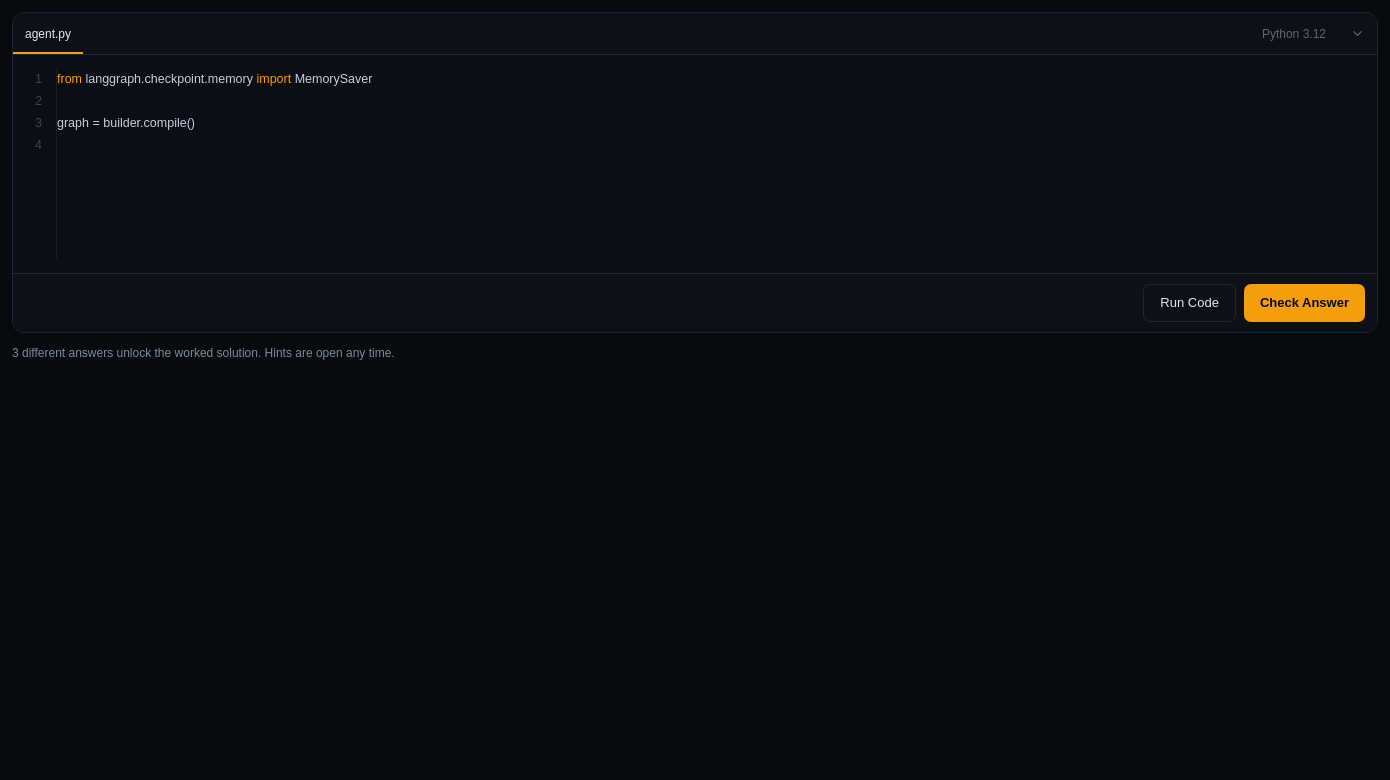
Test: CodeCell › reveals the completed solution and explanation automatically after passing
The width and height of the screenshot is (1390, 780).
Click the button "Check Answer". click: x=1304, y=303
box: top-left (1244, 284), bottom-right (1365, 322)
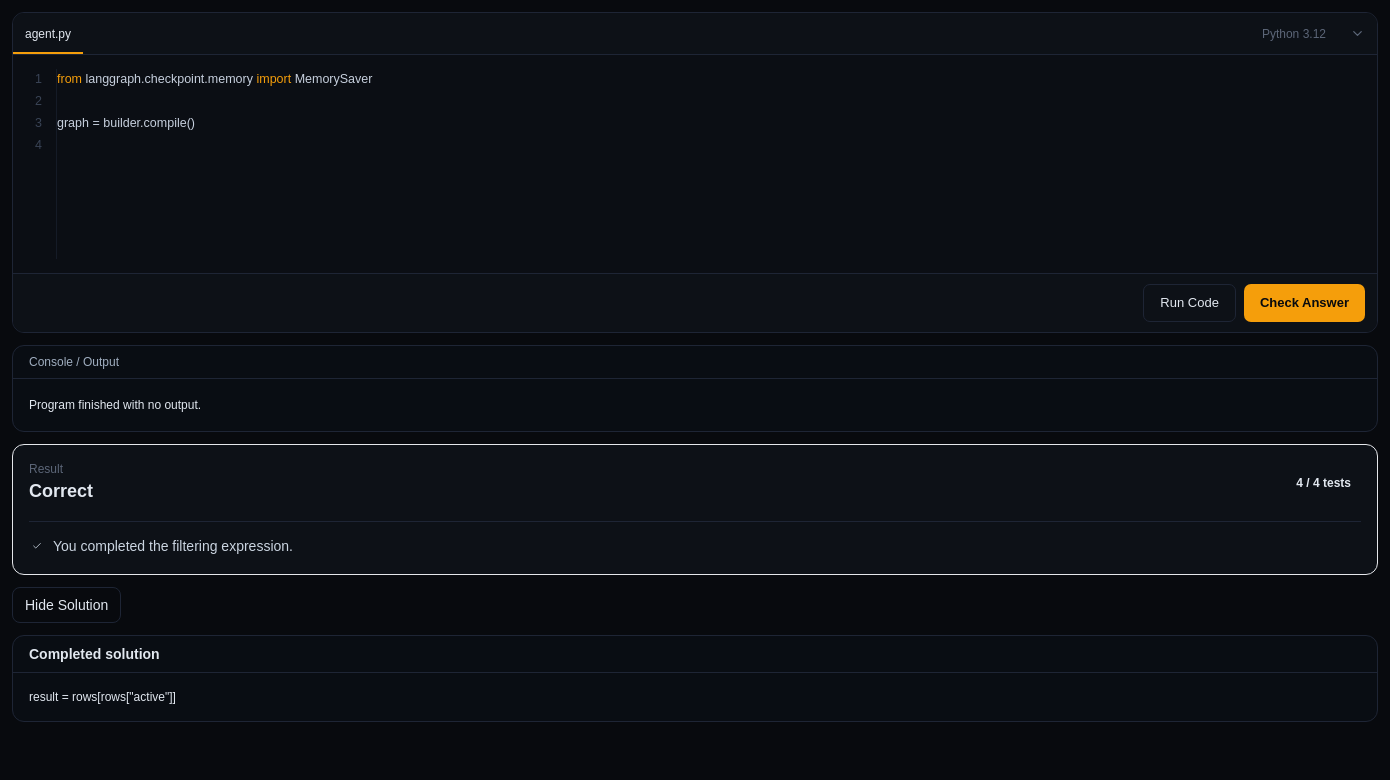
Expected: the text "You completed the filtering expression." is shown, top-left (53, 534), bottom-right (293, 558)
Expected: the heading "Completed solution" is shown, top-left (13, 636), bottom-right (1377, 673)
Expected: the text "result = rows[rows[\"active\"]]" is shown, top-left (29, 690), bottom-right (176, 704)
Click the button "Hide Solution". click: x=67, y=605
box: top-left (12, 587), bottom-right (121, 623)
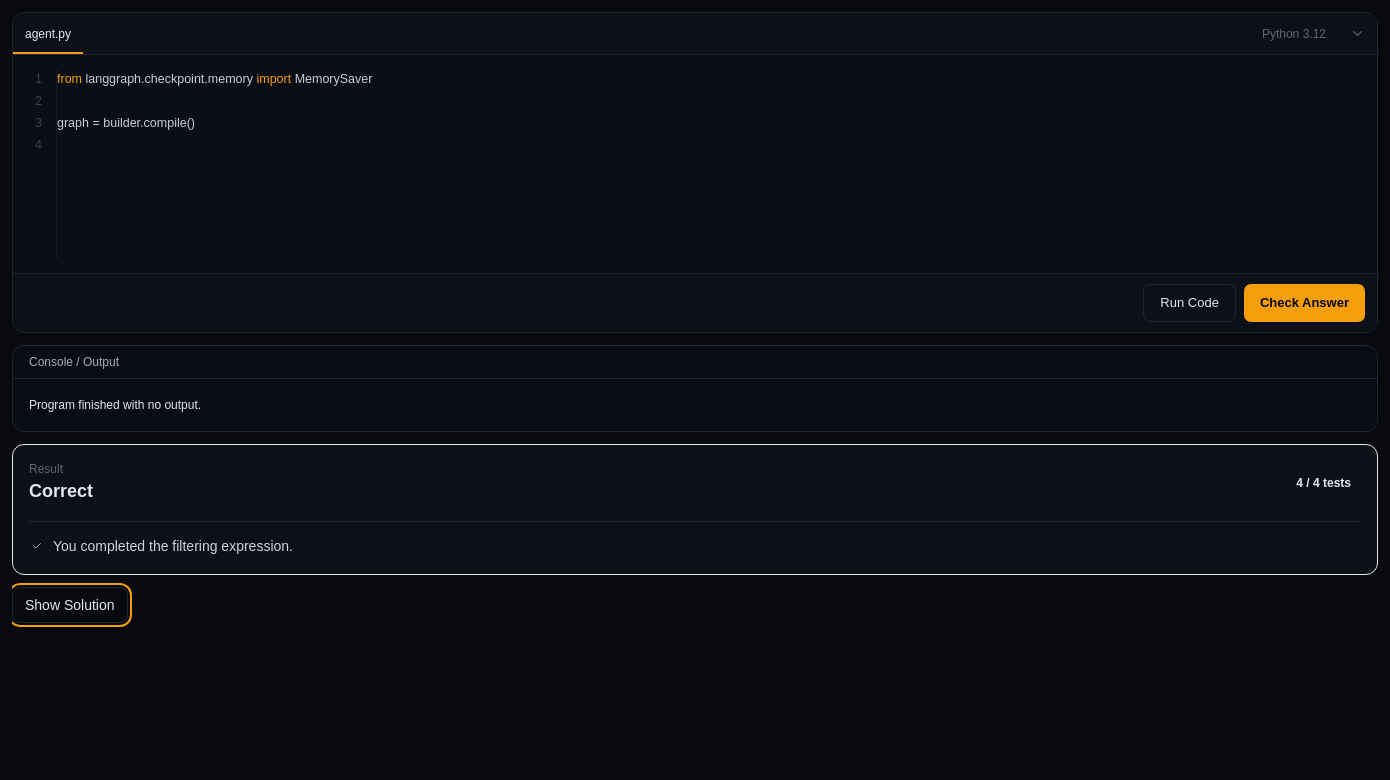
Expected: the text "result = rows[rows[\"active\"]]" is gone
